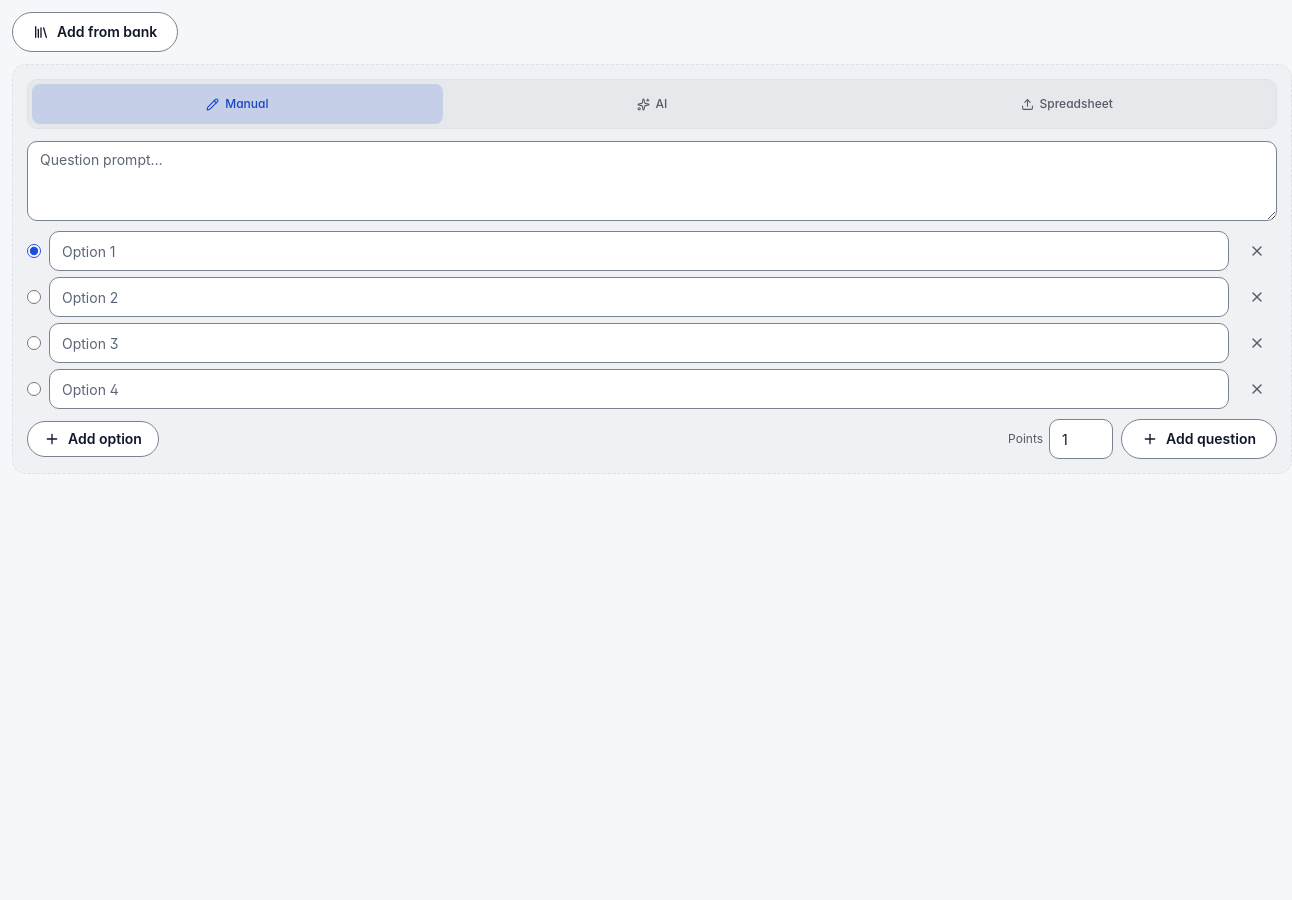
it: MCQ section › keeps only the unsaved drafts when an "Add N questions" fails part-way (E7)
Click the tab "AI": (652, 104) [447,84,857,124]
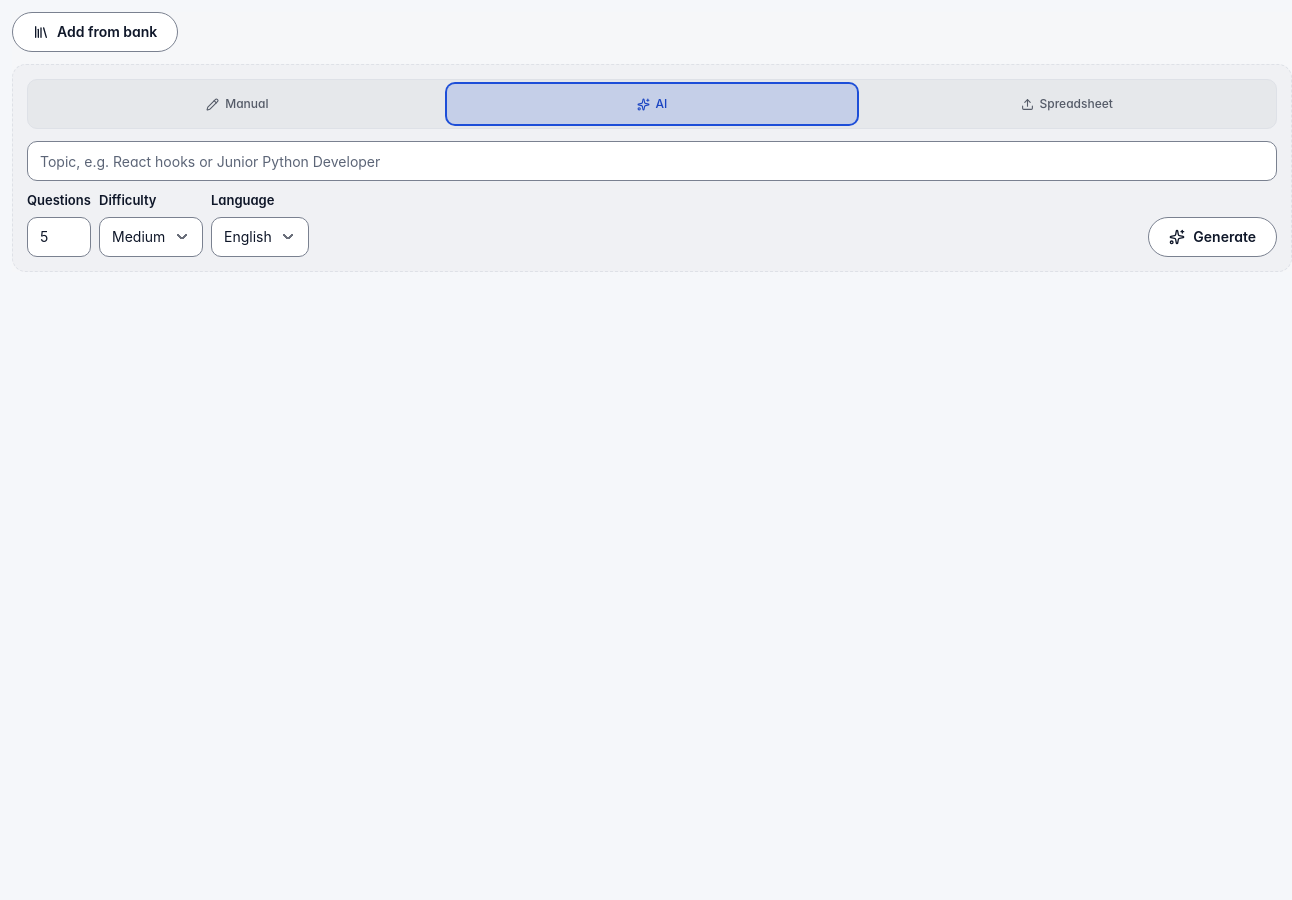
In the field named "AI topic": (652, 161) [27,141,1277,181], type "arithmetic"
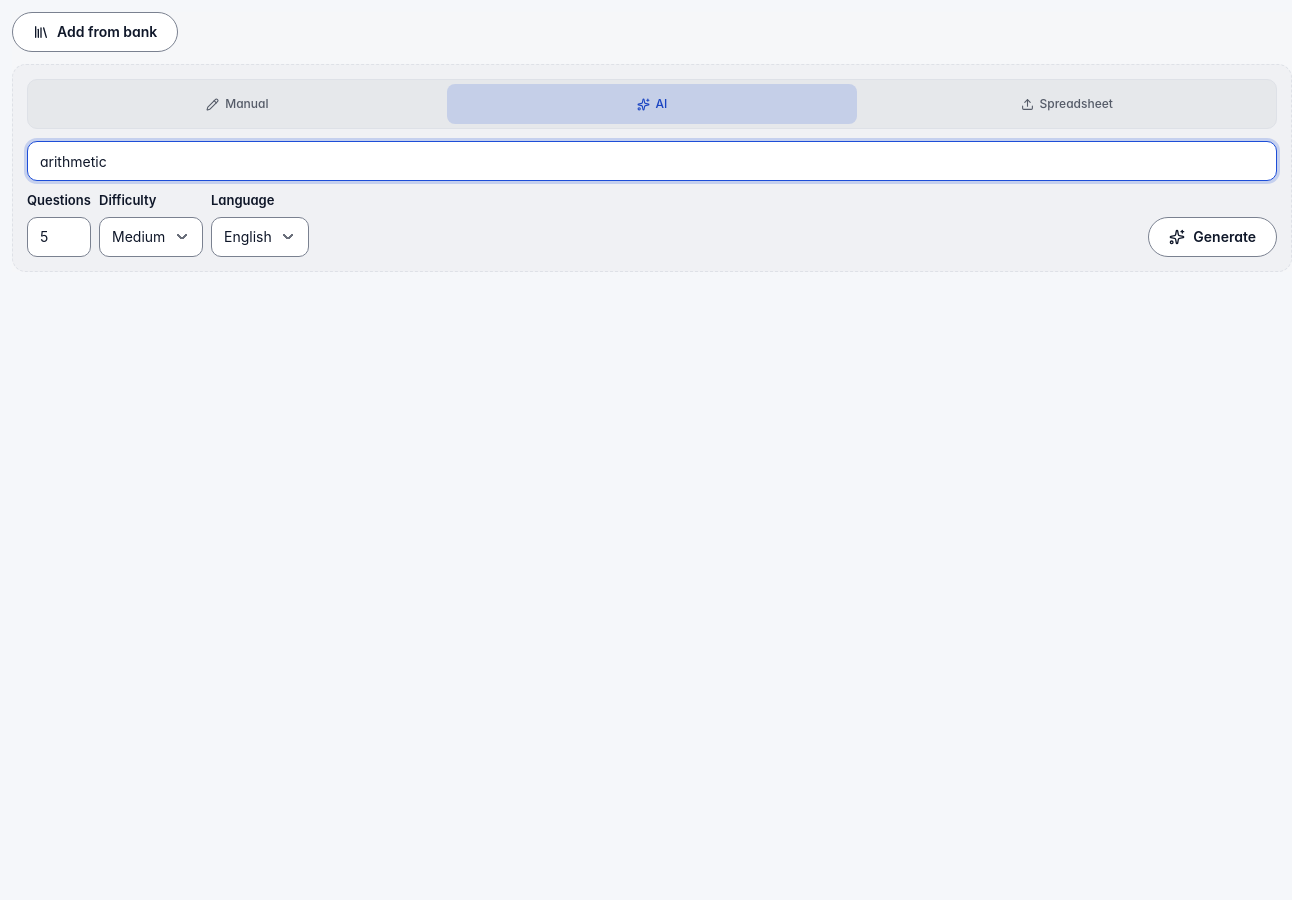
Click the button "Generate": (1213, 236) [1148,216,1277,256]
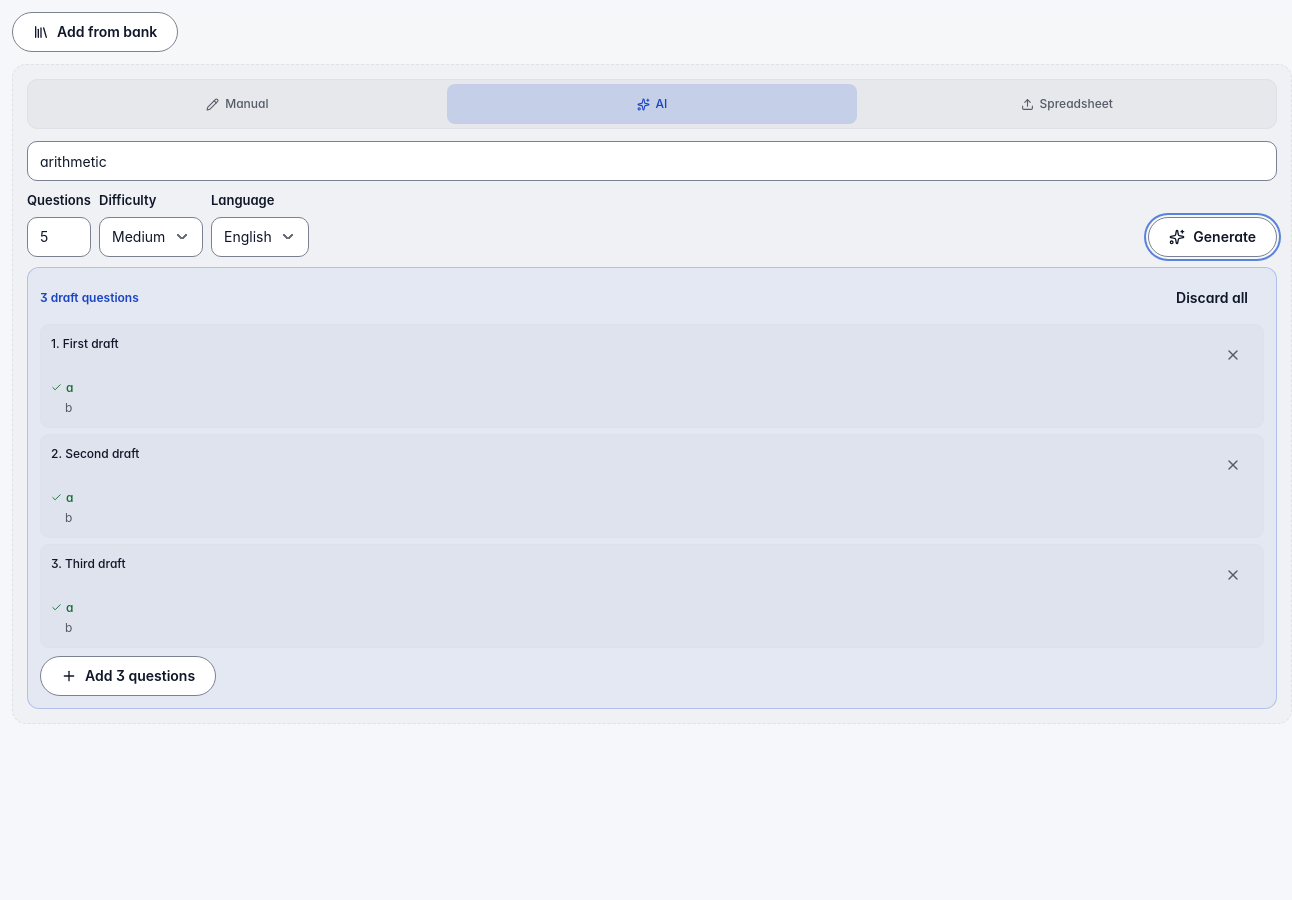
Click the button "Add 3 questions": (128, 676) [40,656,216,696]
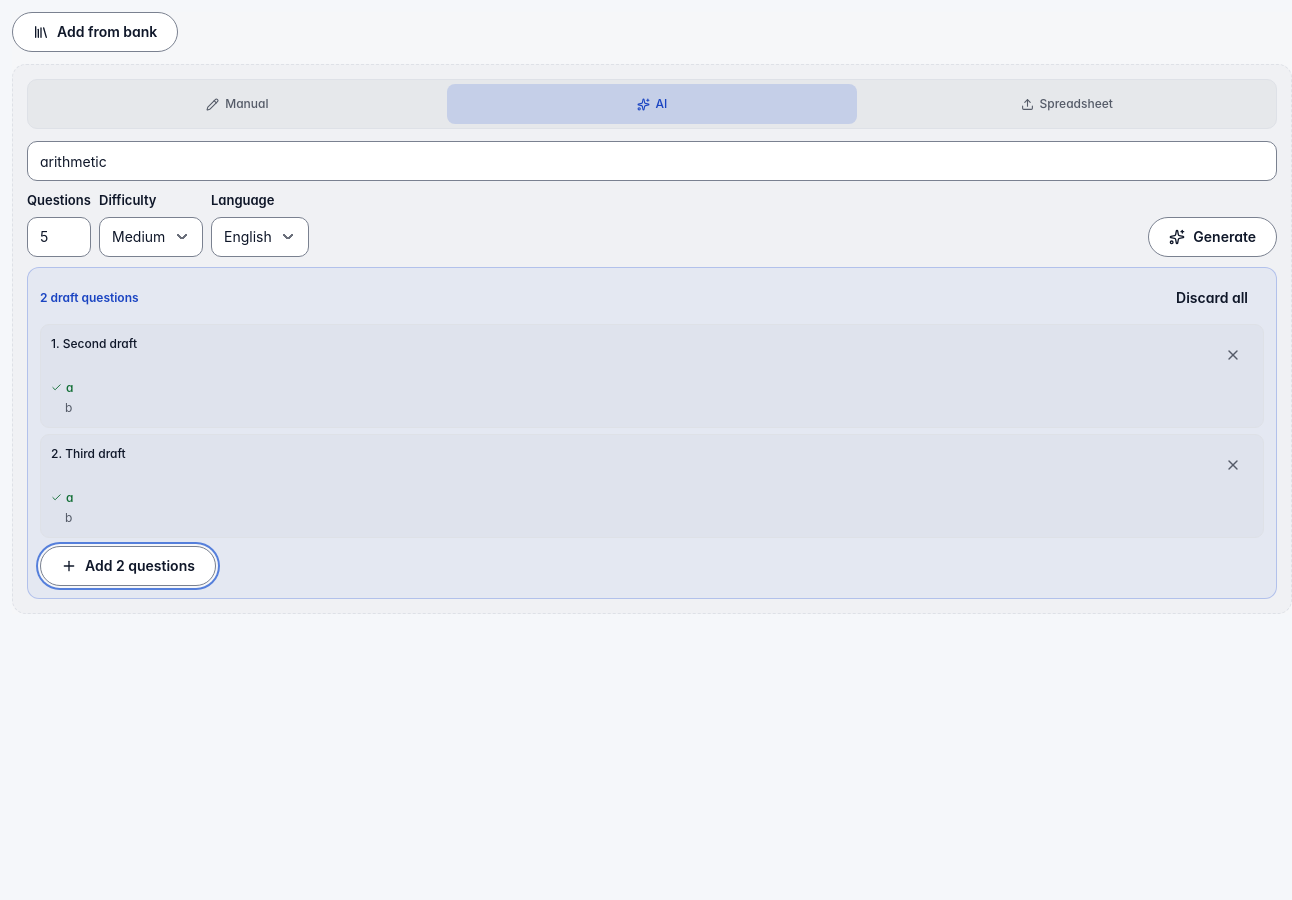
Now the button "Add 2 questions" is shown, box [40,546,216,586]
Now the text "First draft" is gone
Now the text "1. Second draft" is shown, box [51,334,137,352]
